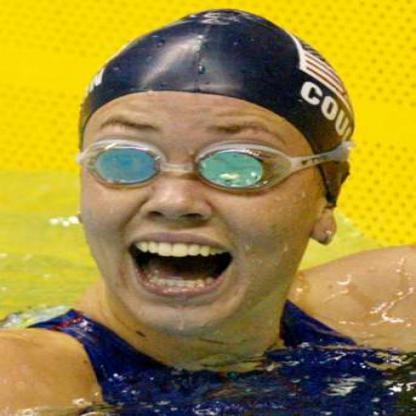face: (78, 20, 325, 338)
